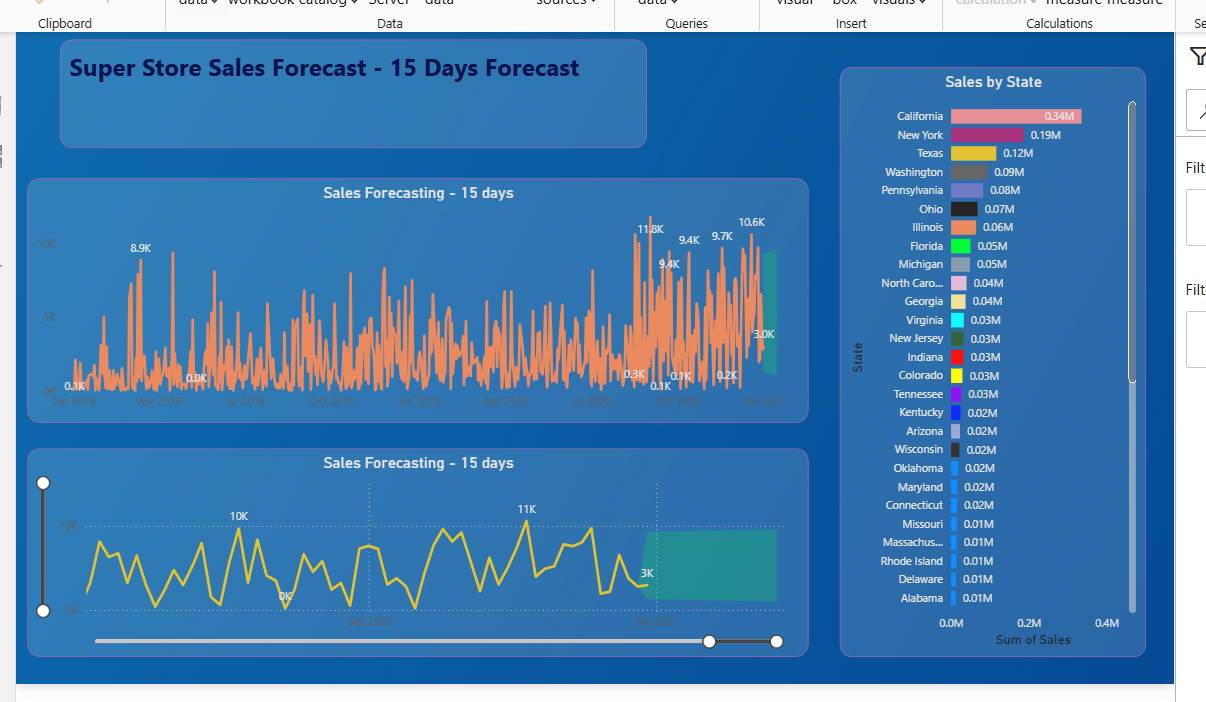

The dashboard page shown, as its layout file describes it:
{"tool":"powerbi","page":{"name":"DashBoard","canvas":[1280,720],"ordinal":1},"visuals":[{"type":"lineChart","title":"Sales Forecasting - 15 days","fields":{"Y":["Sum(SuperStore_Sales_Dataset.Sales)"],"Category":["SuperStore_Sales_Dataset.Order Date"]},"box":[12.4,459.9,863.2,230.6],"z":0},{"type":"lineChart","title":"Sales Forecasting - 15 days","fields":{"Y":["Sum(SuperStore_Sales_Dataset.Sales)"],"Category":["SuperStore_Sales_Dataset.Order Date"]},"box":[12.4,161.6,863.2,270.7],"z":1000},{"type":"textbox","box":[48.3,8.3,649.1,120.2],"z":2000},{"type":"clusteredBarChart","title":" Sales by State","fields":{"Category":["SuperStore_Sales_Dataset.State"],"Y":["Sum(SuperStore_Sales_Dataset.Sales)"]},"box":[910.1,38.7,338.4,651.9],"z":3000}]}

Visuals, with their boxes in screenshot pixels (x1, y1, x2, y2):
"Sales Forecasting - 15 days" lineChart: 0, 462, 812, 684
"Sales Forecasting - 15 days" lineChart: 0, 175, 812, 435
textbox: 15, 27, 640, 143
" Sales by State" clusteredBarChart: 845, 56, 1171, 684
